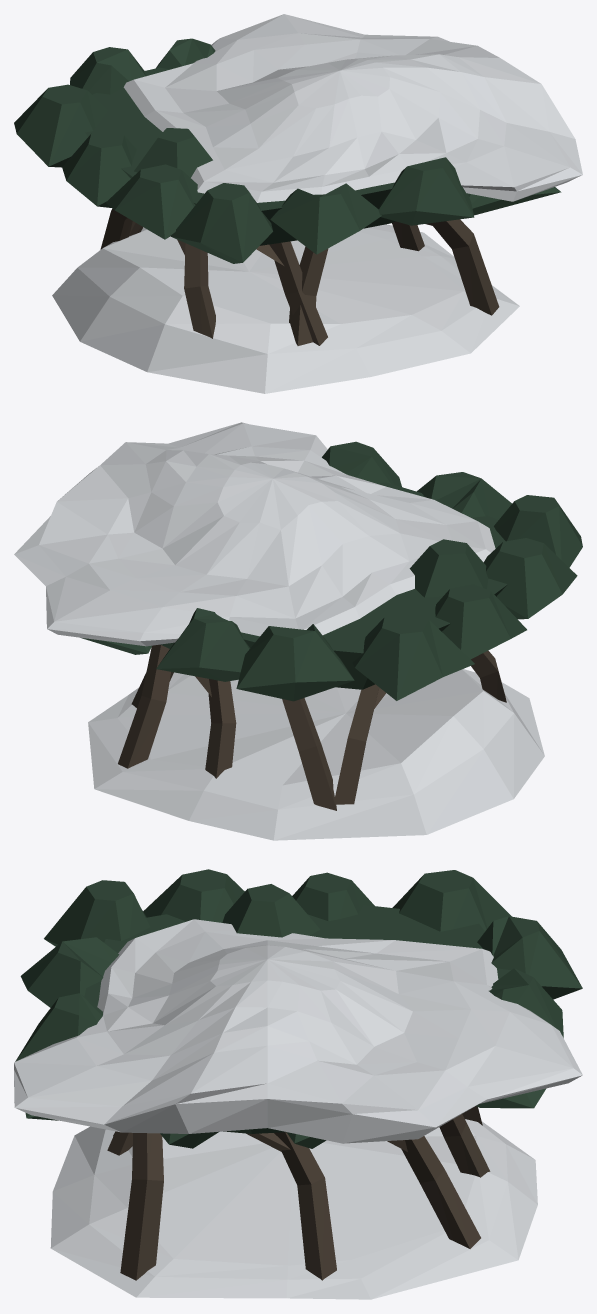
The model's file is dwarf-pine-mat-faee77.glb.
The picture shows the model from 3 angles, top to bottom: view 1: azimuth 30°, elevation 25°; view 2: azimuth 150°, elevation 25°; view 3: azimuth 270°, elevation 25°; orthographic projection. The views are drawn at different scales.
Visible parts, largest first — view 1: dwarf-pine-mat; view 2: dwarf-pine-mat; view 3: dwarf-pine-mat.
Boxes of the visible parts, x1,y1,x2,y2 form: dwarf-pine-mat: (14,14,582,393); dwarf-pine-mat: (14,422,582,840); dwarf-pine-mat: (14,869,582,1299).
Bounding box in the file's own units: 2.5 × 1.29 × 2.5.
